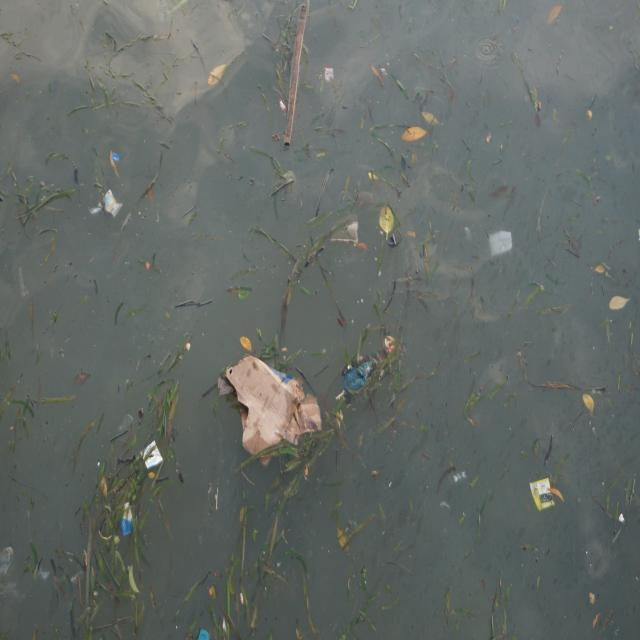Bungkus Makanan: (529, 477, 555, 513), (99, 189, 124, 222), (140, 440, 165, 472)
Kantong Plastik: (341, 355, 374, 398)
